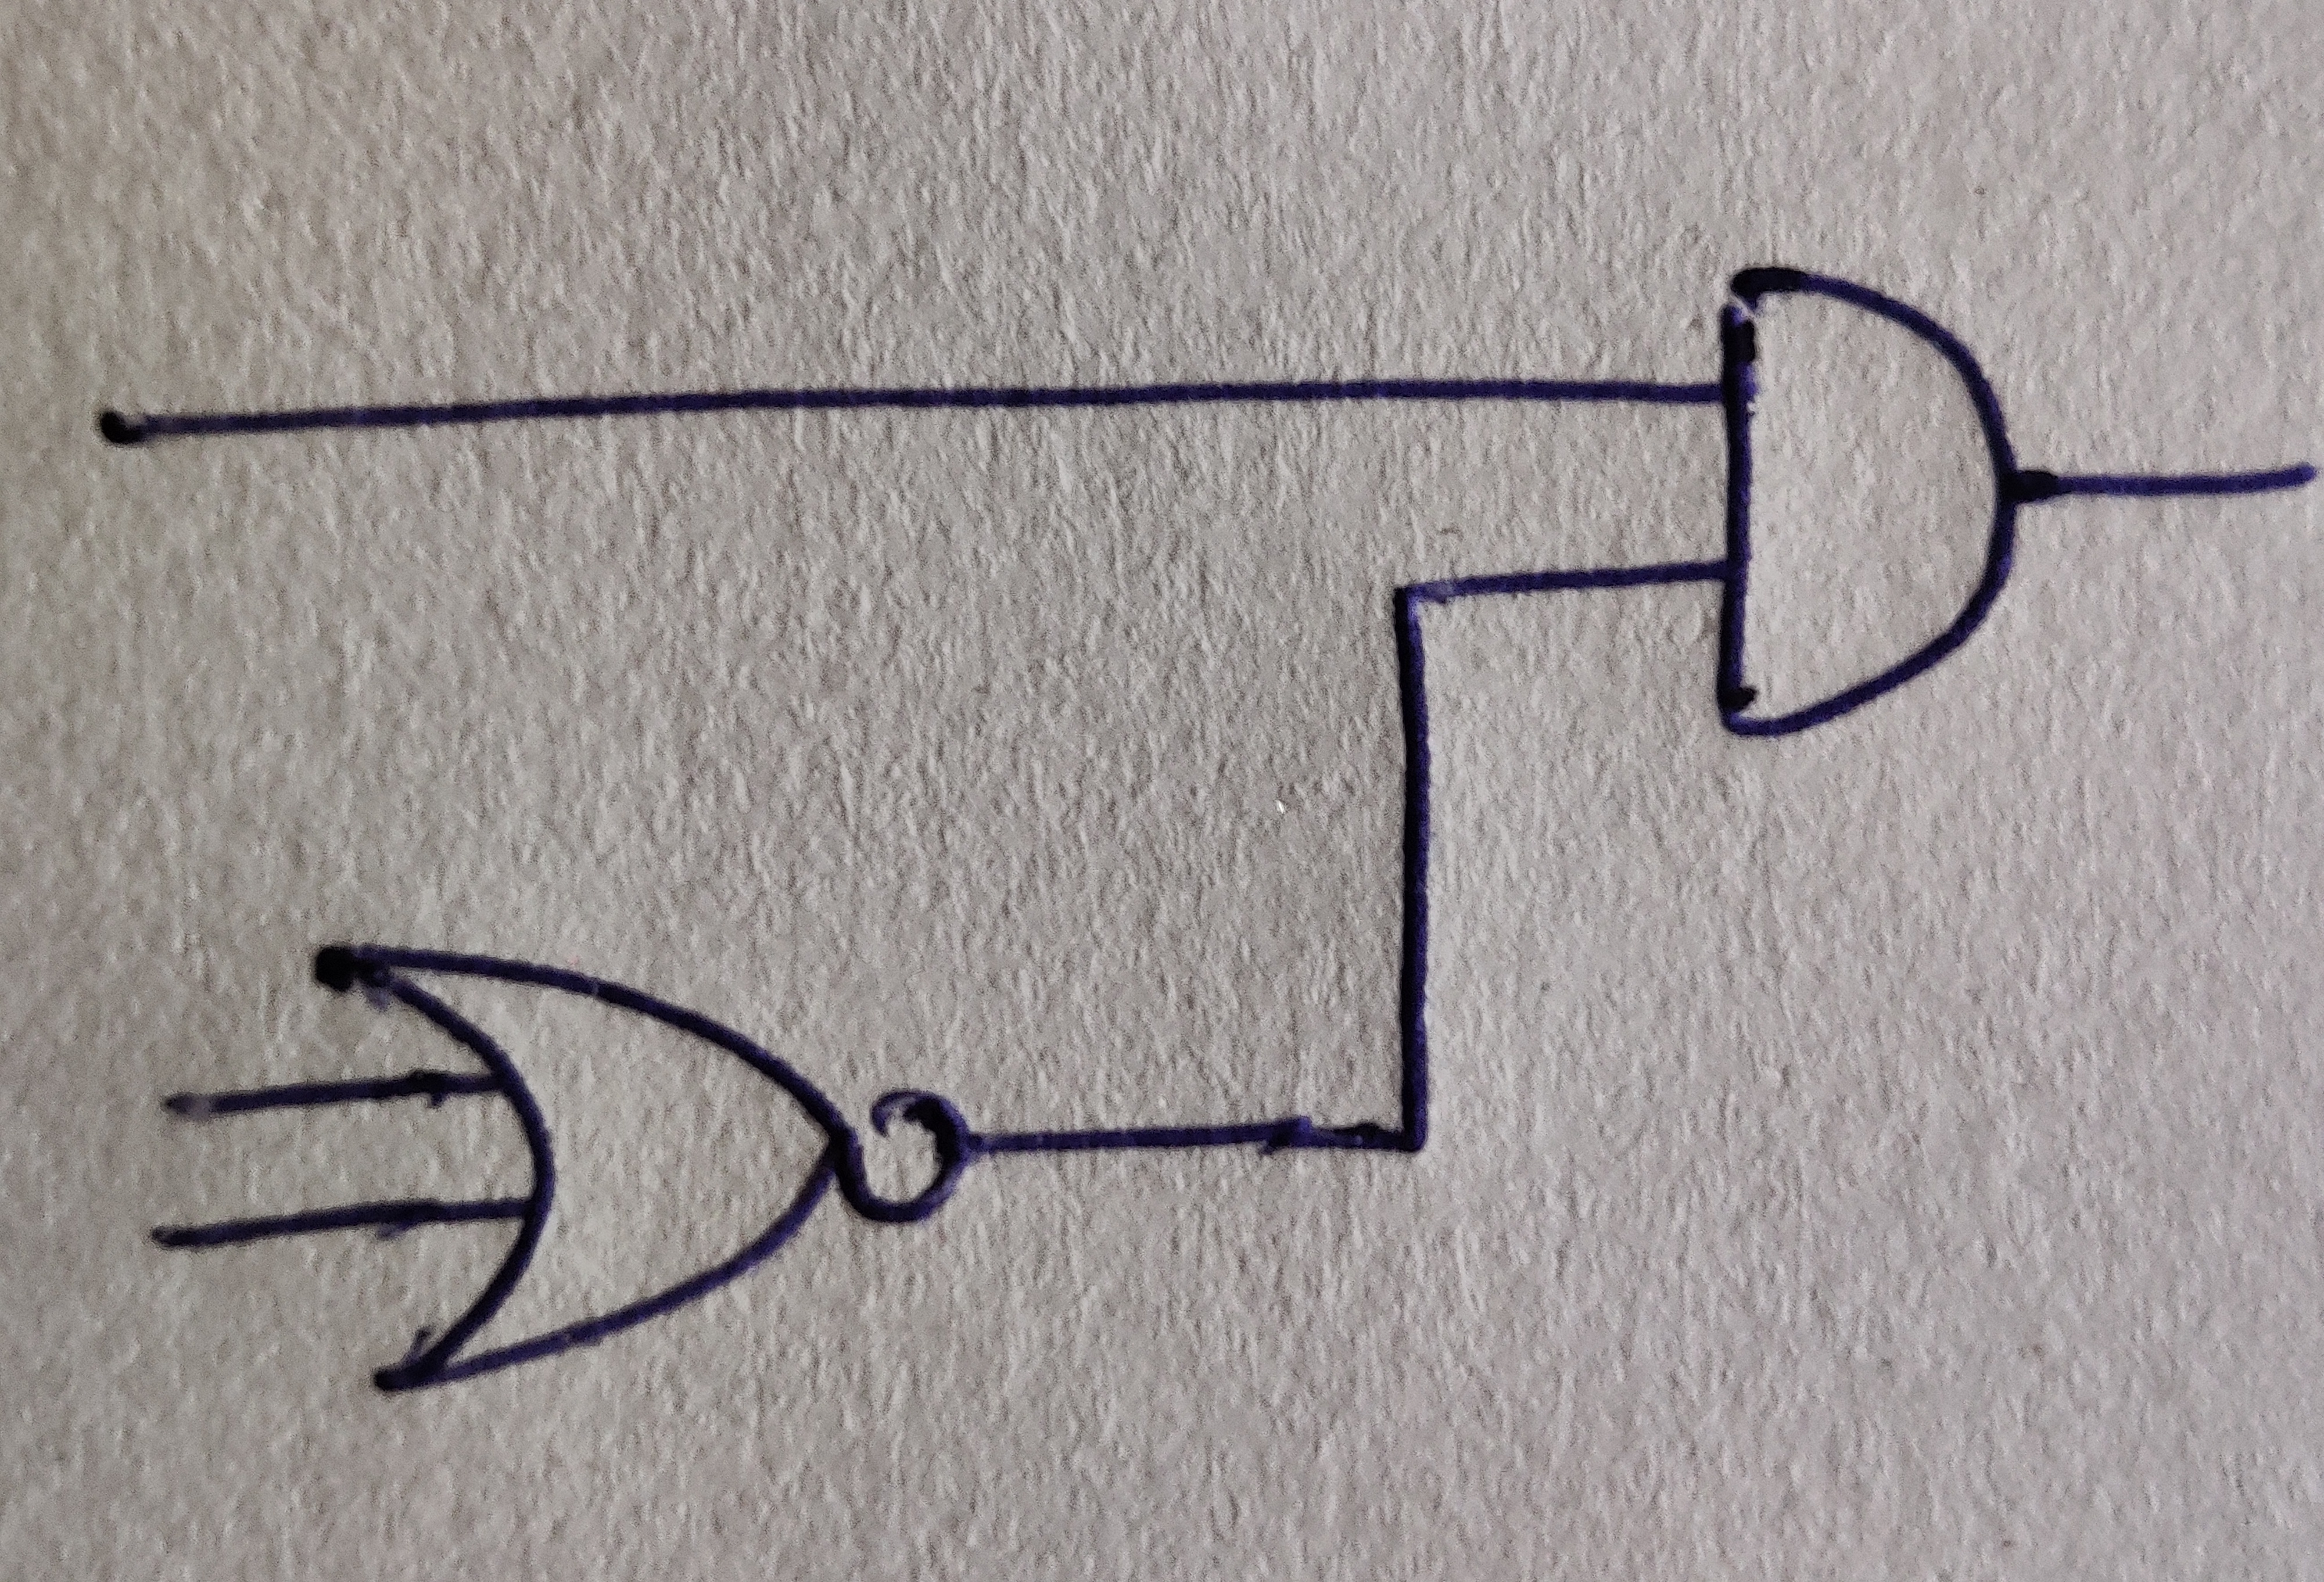and: (1718, 268, 2018, 738)
not: (835, 1088, 968, 1225)
or: (314, 943, 844, 1393)
